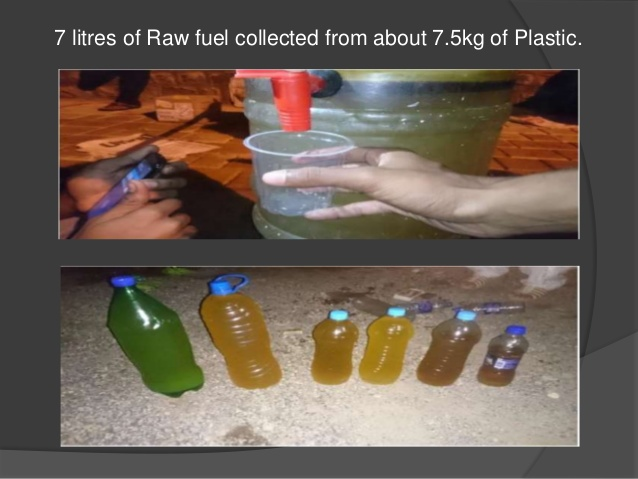plastic_bottle: (162, 250, 298, 437), (85, 257, 217, 437), (283, 270, 368, 437), (454, 279, 559, 412), (400, 278, 486, 433), (344, 274, 417, 421)
